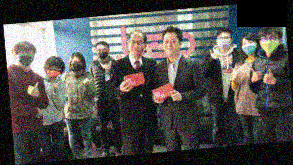with_mask: (258, 34, 279, 53), (15, 48, 33, 68), (240, 39, 256, 56), (216, 34, 230, 50), (44, 65, 59, 79), (69, 59, 83, 73), (96, 47, 107, 61)
without_mask: (160, 37, 179, 56), (128, 37, 144, 55)
